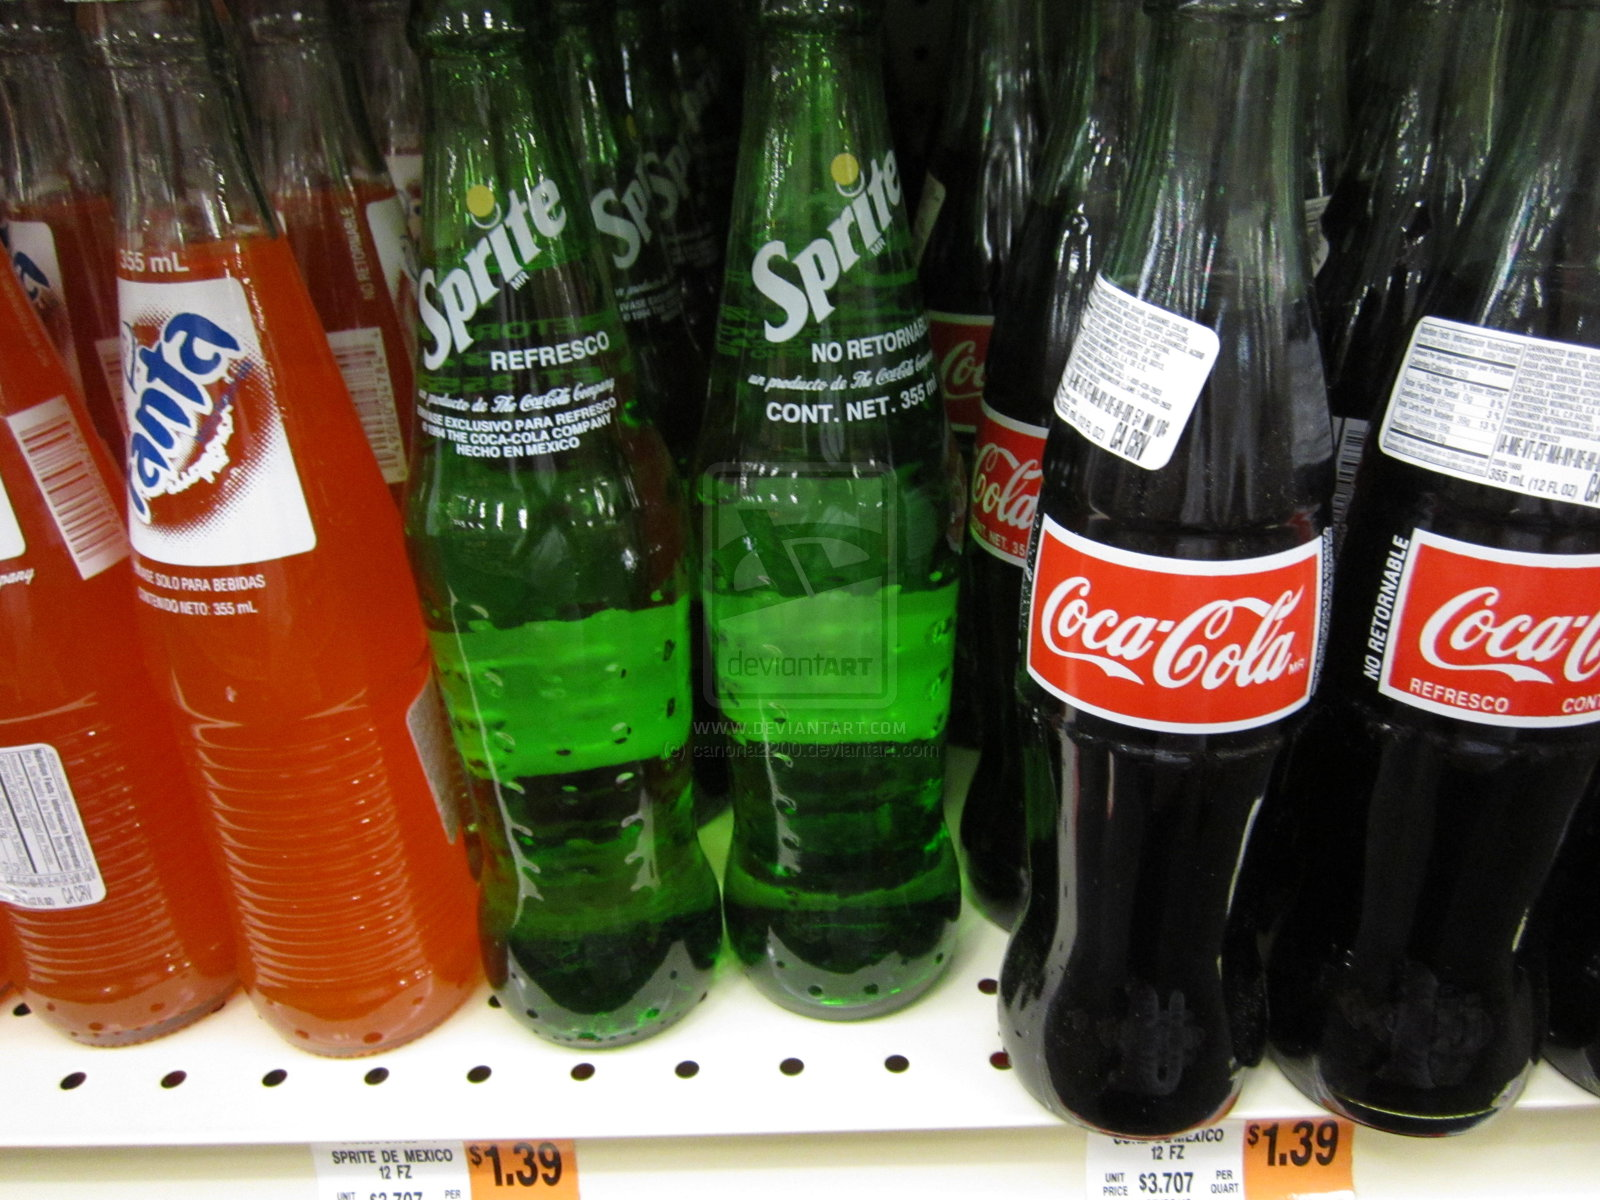Rec_Glass: (71, 1, 491, 1064), (973, 1, 1348, 1139), (1281, 1, 1600, 1138), (406, 6, 698, 1051), (684, 1, 978, 1008)
